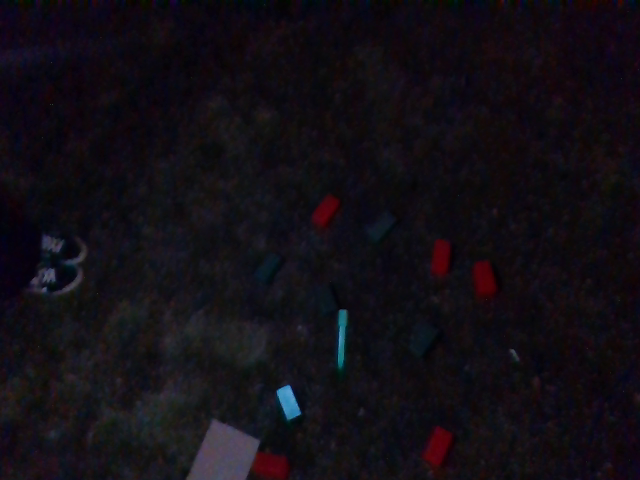Probe: (335, 303, 351, 374)
